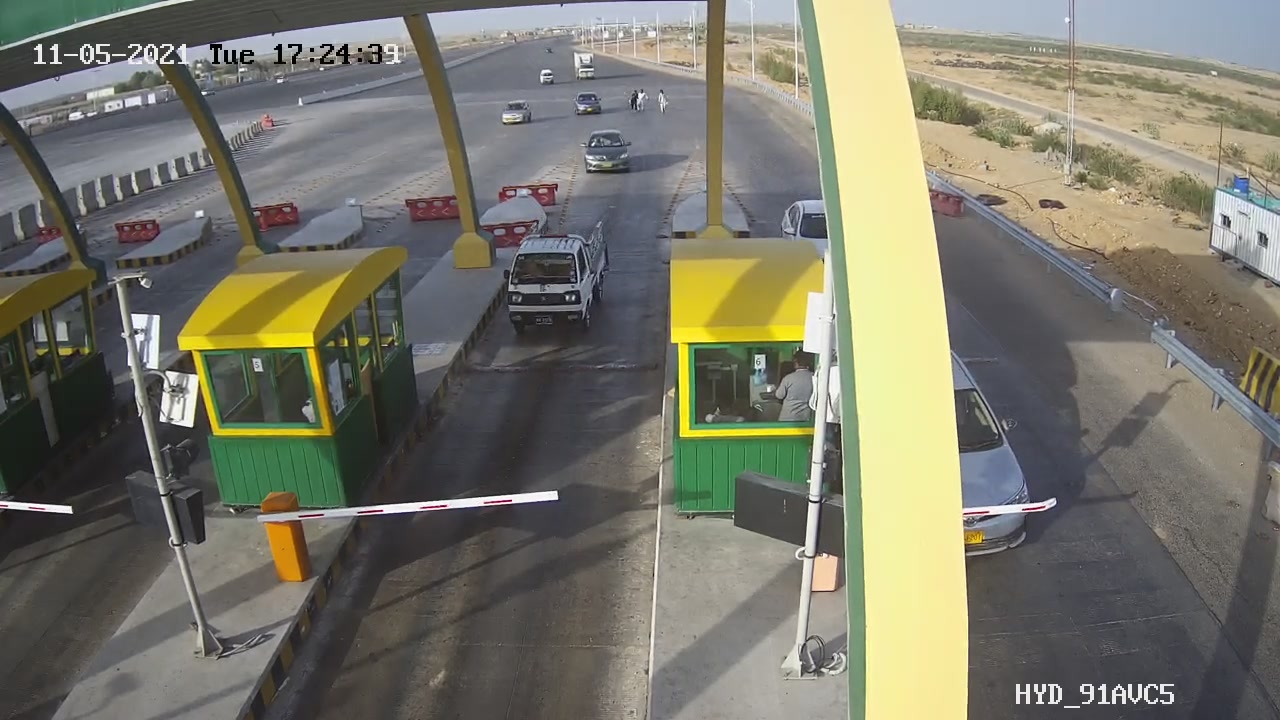F1: (482, 207, 634, 344)
